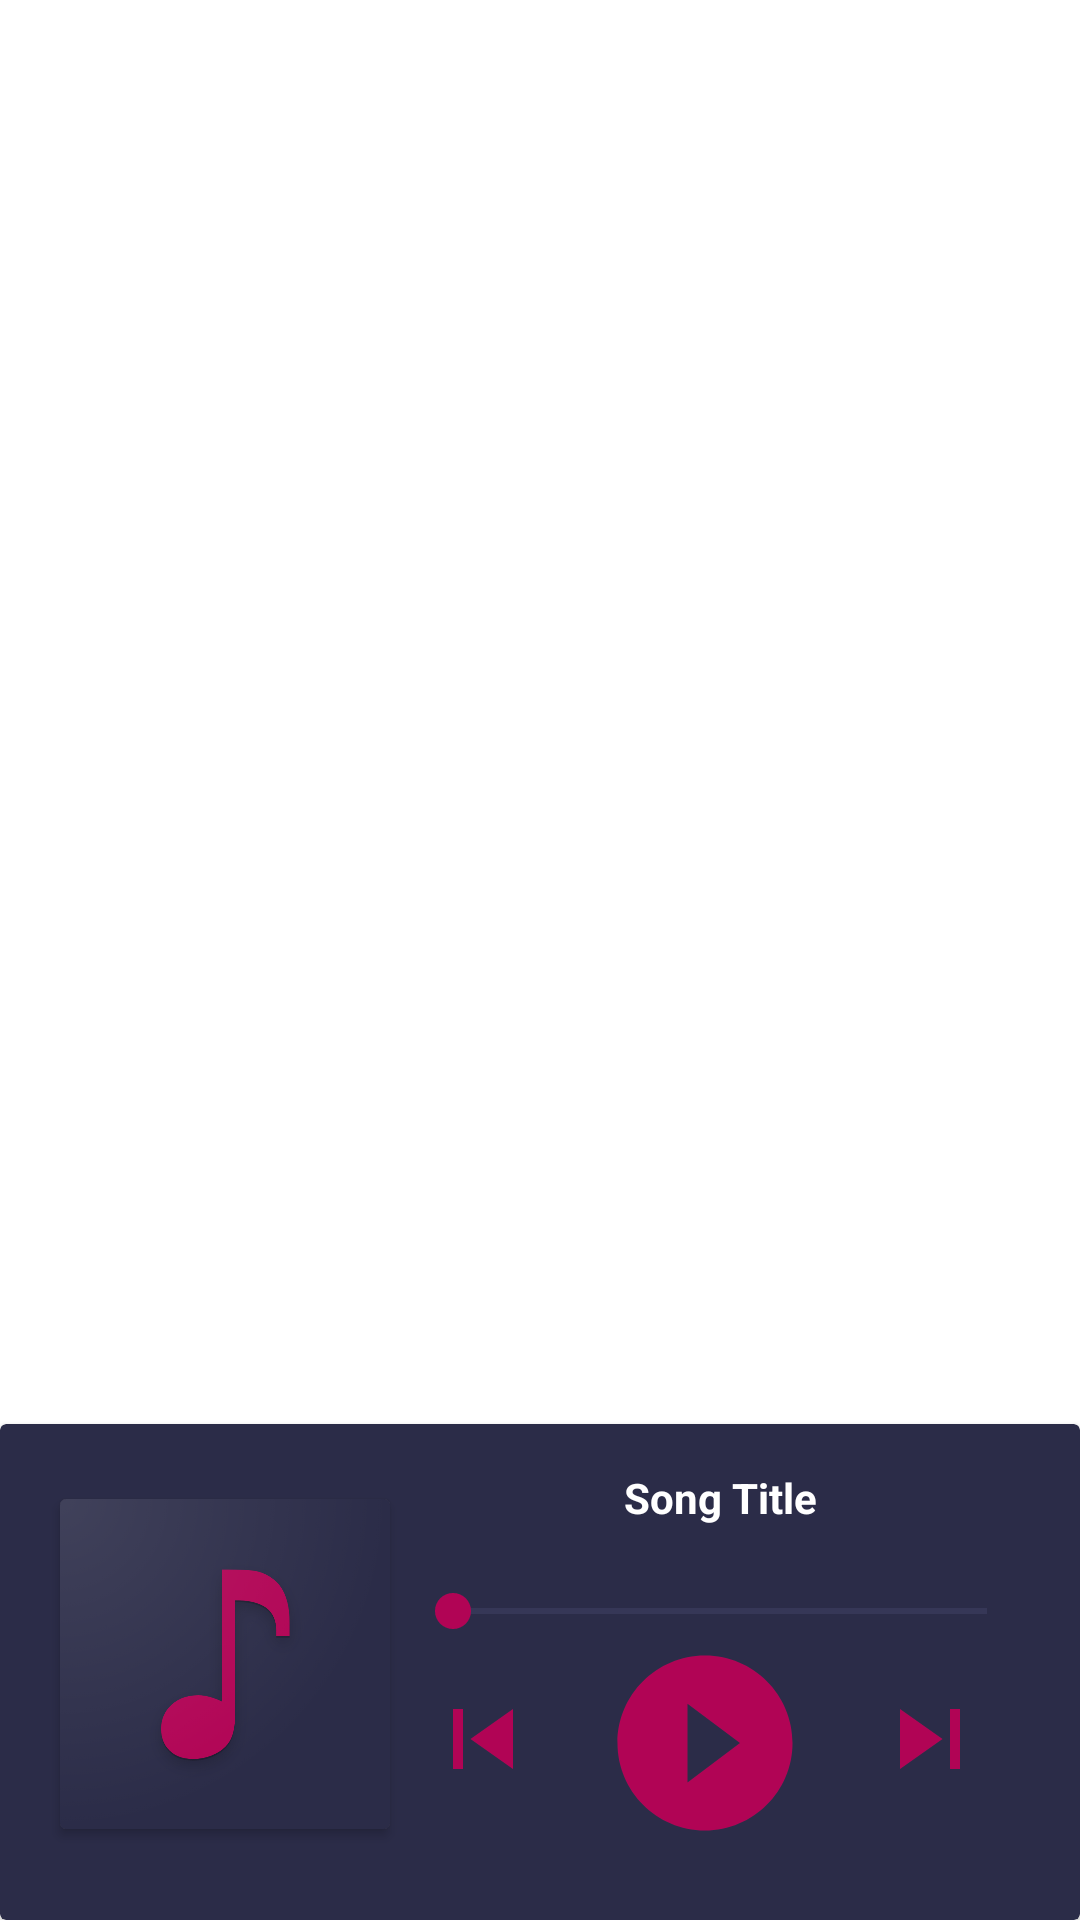

Locate icon controls on the screen. Image size 1080px x 1920px, boxes as Rect(x1, y1, x2, y2).
music: Rect(161, 1569, 290, 1759)
play circle: Rect(617, 1655, 793, 1831)
skip next: Rect(900, 1709, 960, 1769)
skip previous: Rect(453, 1709, 513, 1769)
